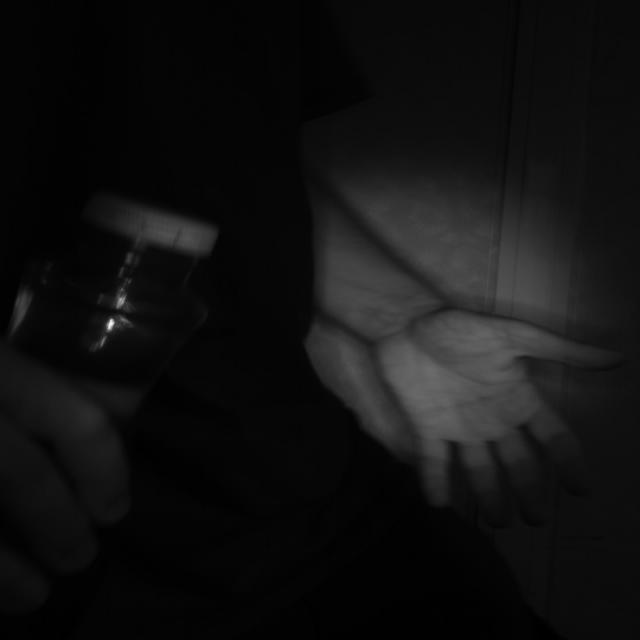Not Good: (84, 192, 218, 284)
